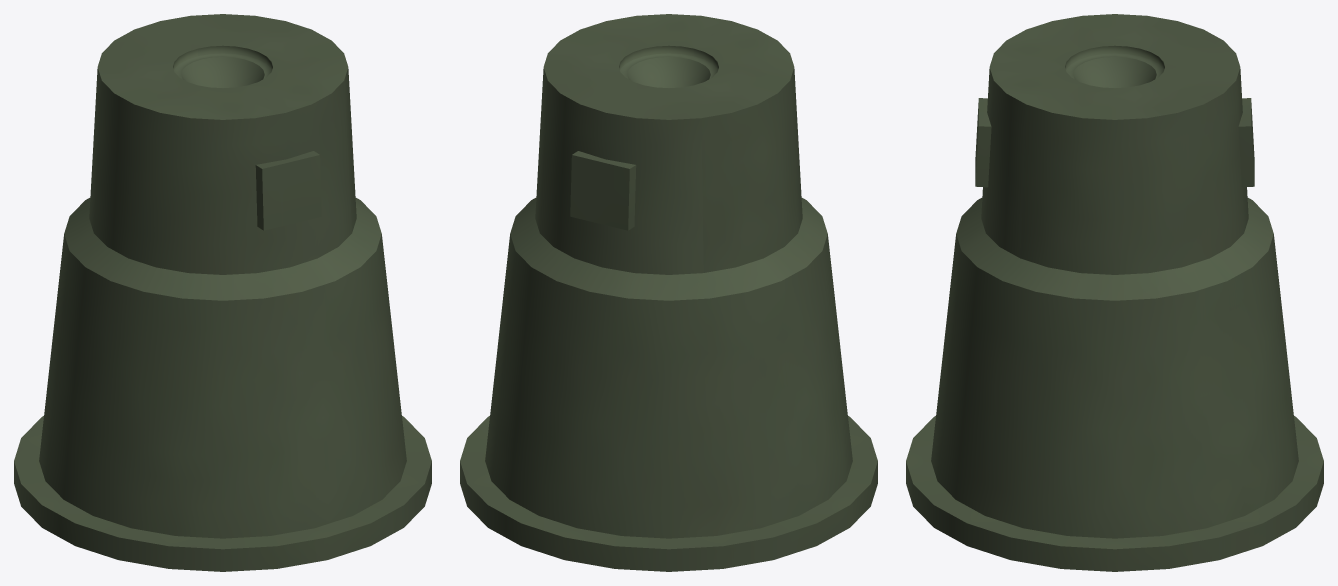
File: voskhod top.obj
3 views of the same model, side by side, from view 1: azimuth 30°, elevation 25°; view 2: azimuth 150°, elevation 25°; view 3: azimuth 270°, elevation 25° (orthographic).
Visible parts, largest first — view 1: 1; view 2: 1; view 3: 1.
Boxes of the visible parts, left/top/right/bottom form: 1: left=14, top=14, right=431, bottom=571; 1: left=460, top=14, right=877, bottom=571; 1: left=906, top=14, right=1323, bottom=571.
Size of the model in its own units: 0.625 by 0.6875 by 0.625.
